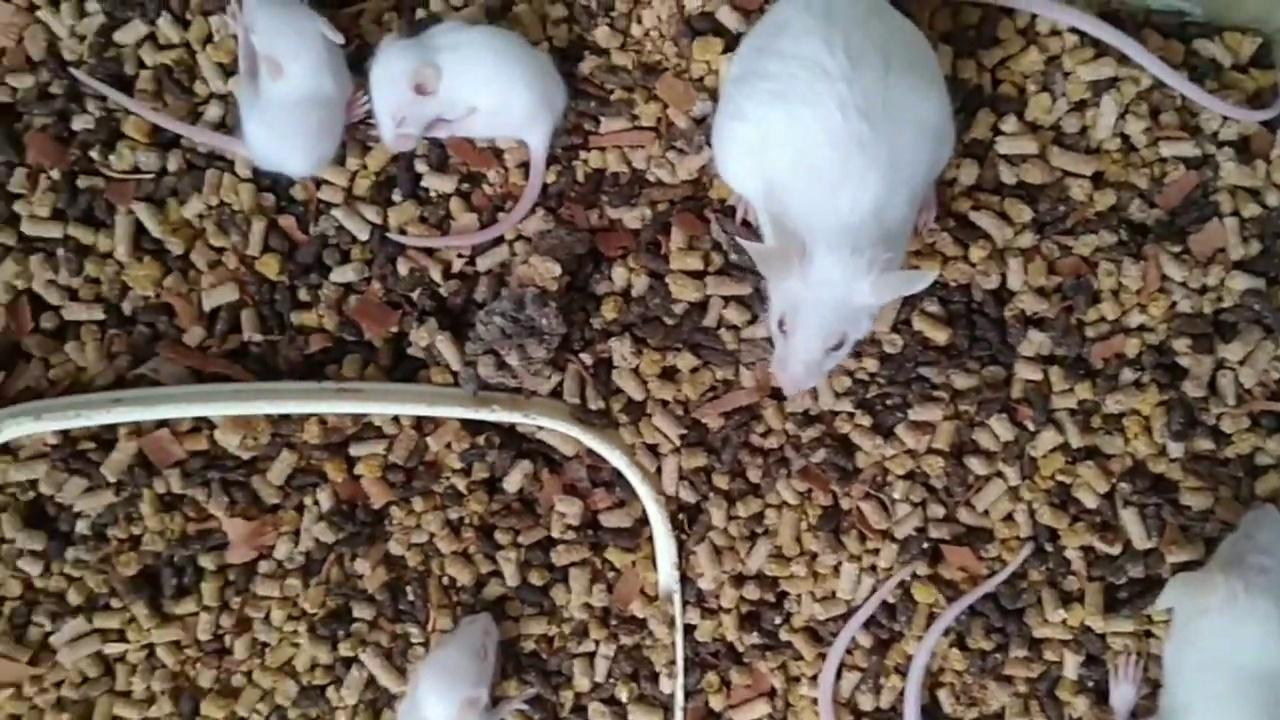rat: (713, 0, 1280, 398), (72, 0, 354, 178), (370, 19, 570, 248), (1106, 503, 1280, 720), (394, 614, 538, 720)
